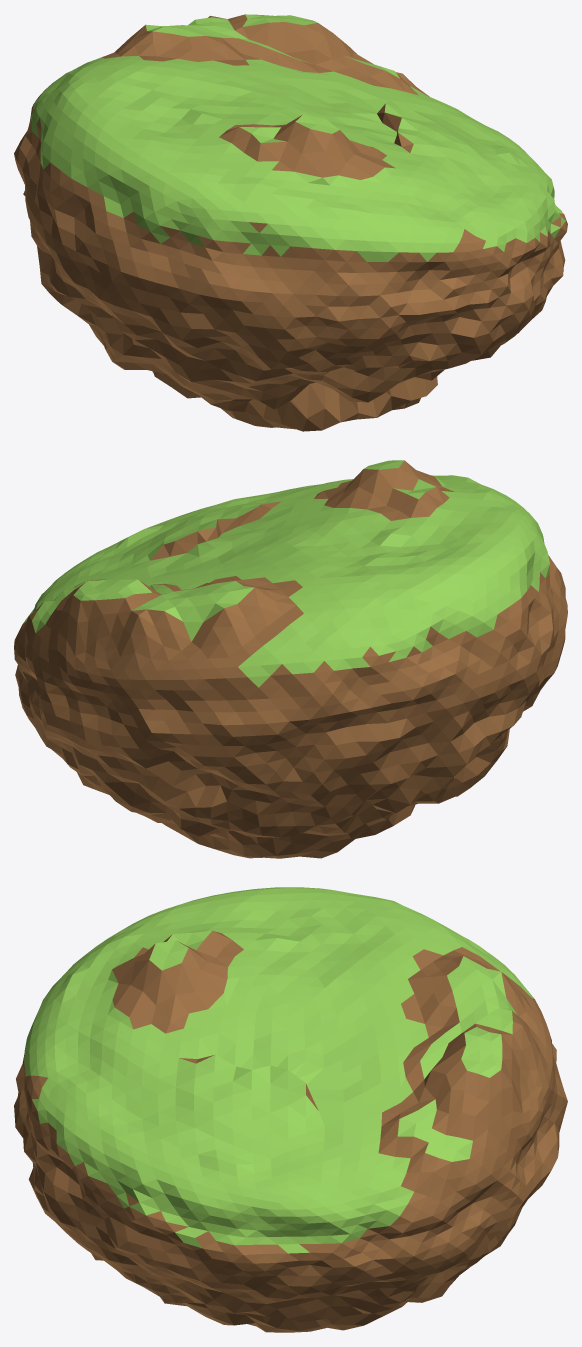
Rendered from island1.fbx.
The picture shows the model from 3 angles, top to bottom: view 1: azimuth 30°, elevation 25°; view 2: azimuth 150°, elevation 25°; view 3: azimuth 270°, elevation 25°; orthographic projection.
Parts seen in each view (by area): view 1: Icosphere.001; view 2: Icosphere.001; view 3: Icosphere.001.
Boxes of the visible parts, x1,y1,x2,y2 form: Icosphere.001: (14, 14, 567, 431); Icosphere.001: (14, 460, 567, 858); Icosphere.001: (14, 887, 567, 1332).
Bounding box in the file's own units: 59266 × 39916 × 59321.
